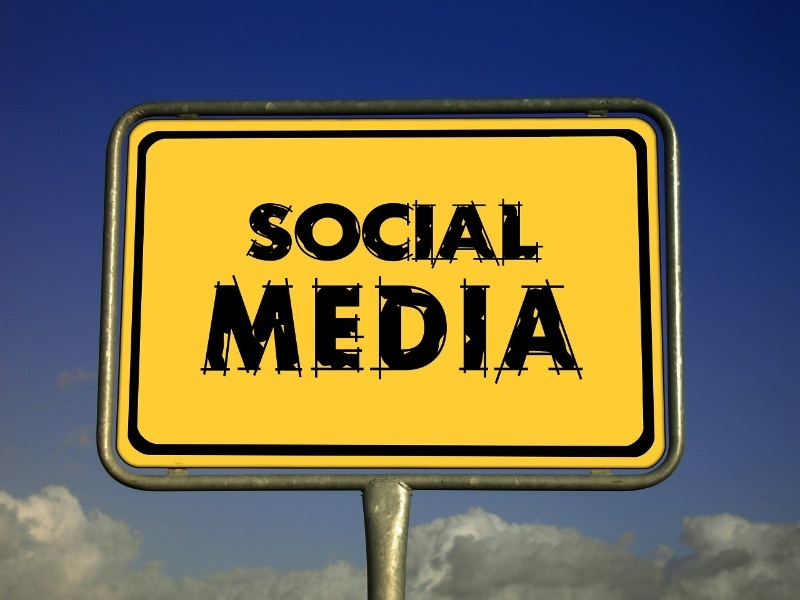text: (209, 283, 224, 372), (225, 283, 240, 372), (241, 283, 256, 372), (257, 283, 272, 372), (273, 283, 288, 372), (289, 283, 304, 372), (305, 283, 320, 372), (321, 283, 336, 372), (337, 283, 352, 372), (353, 283, 368, 372), (369, 283, 384, 372), (385, 283, 400, 372), (401, 283, 416, 372), (417, 283, 432, 372), (433, 283, 448, 372), (449, 283, 464, 372), (465, 283, 480, 372), (481, 283, 496, 372), (497, 283, 512, 372), (513, 283, 528, 372), (529, 283, 544, 372), (545, 283, 560, 372), (561, 283, 576, 372), (257, 201, 272, 262), (273, 201, 288, 262), (289, 201, 304, 262), (305, 201, 320, 262), (321, 201, 336, 262), (337, 201, 352, 262), (353, 201, 368, 262), (369, 201, 384, 262), (385, 201, 400, 262), (401, 201, 416, 262), (417, 201, 432, 262), (433, 201, 448, 262), (449, 201, 464, 262), (465, 201, 480, 262), (481, 201, 496, 262), (497, 201, 512, 262), (513, 201, 528, 262), (529, 201, 540, 262), (247, 201, 256, 262), (202, 283, 208, 372), (577, 283, 582, 372)
